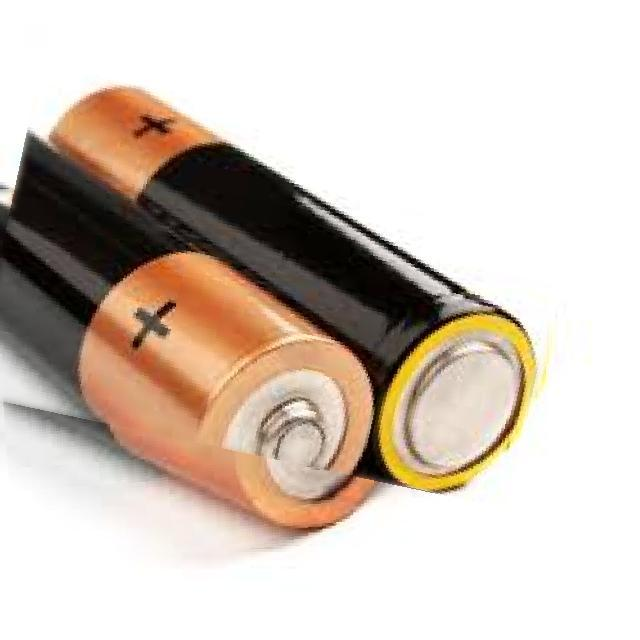Battery: (39, 78, 549, 502), (0, 120, 379, 522)
